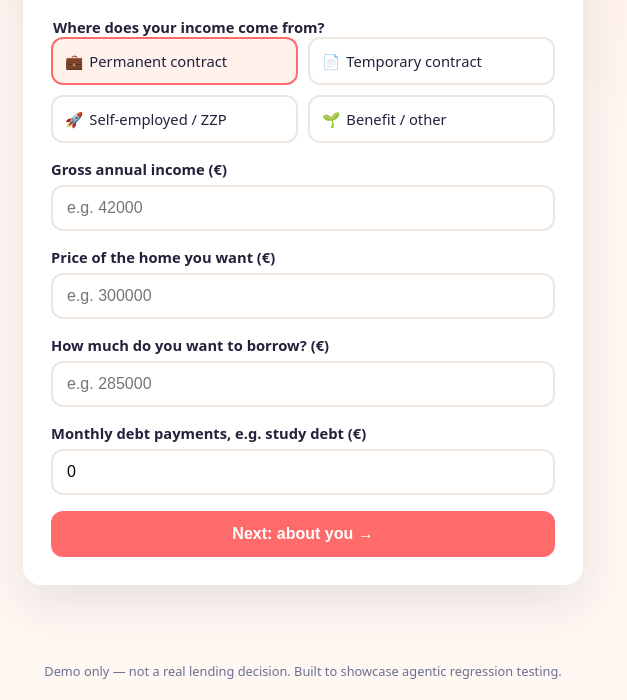
it: App wizard › blocks progressing when required money fields are missing
(page scrolled)
Step 1. Click the button "Next: about you →" → [303, 534], box [51,511,555,557]
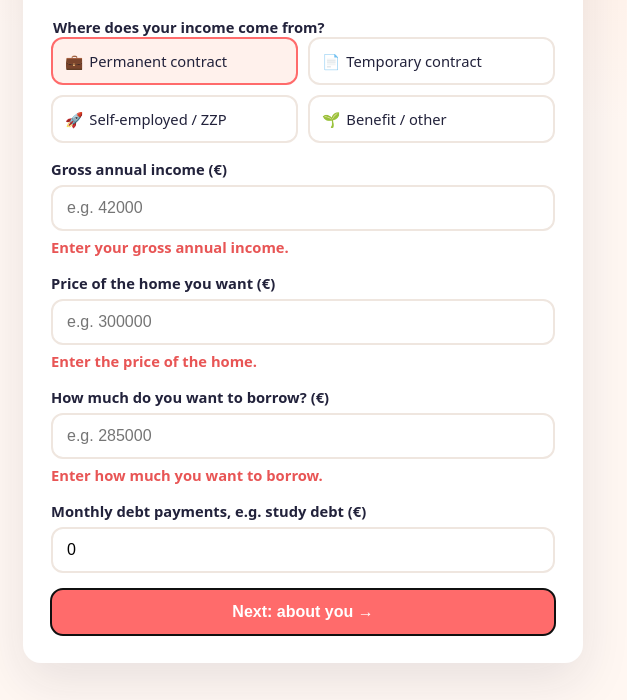
Check: the text "Enter your gross annual income." is shown, box [51,237,289,257]
